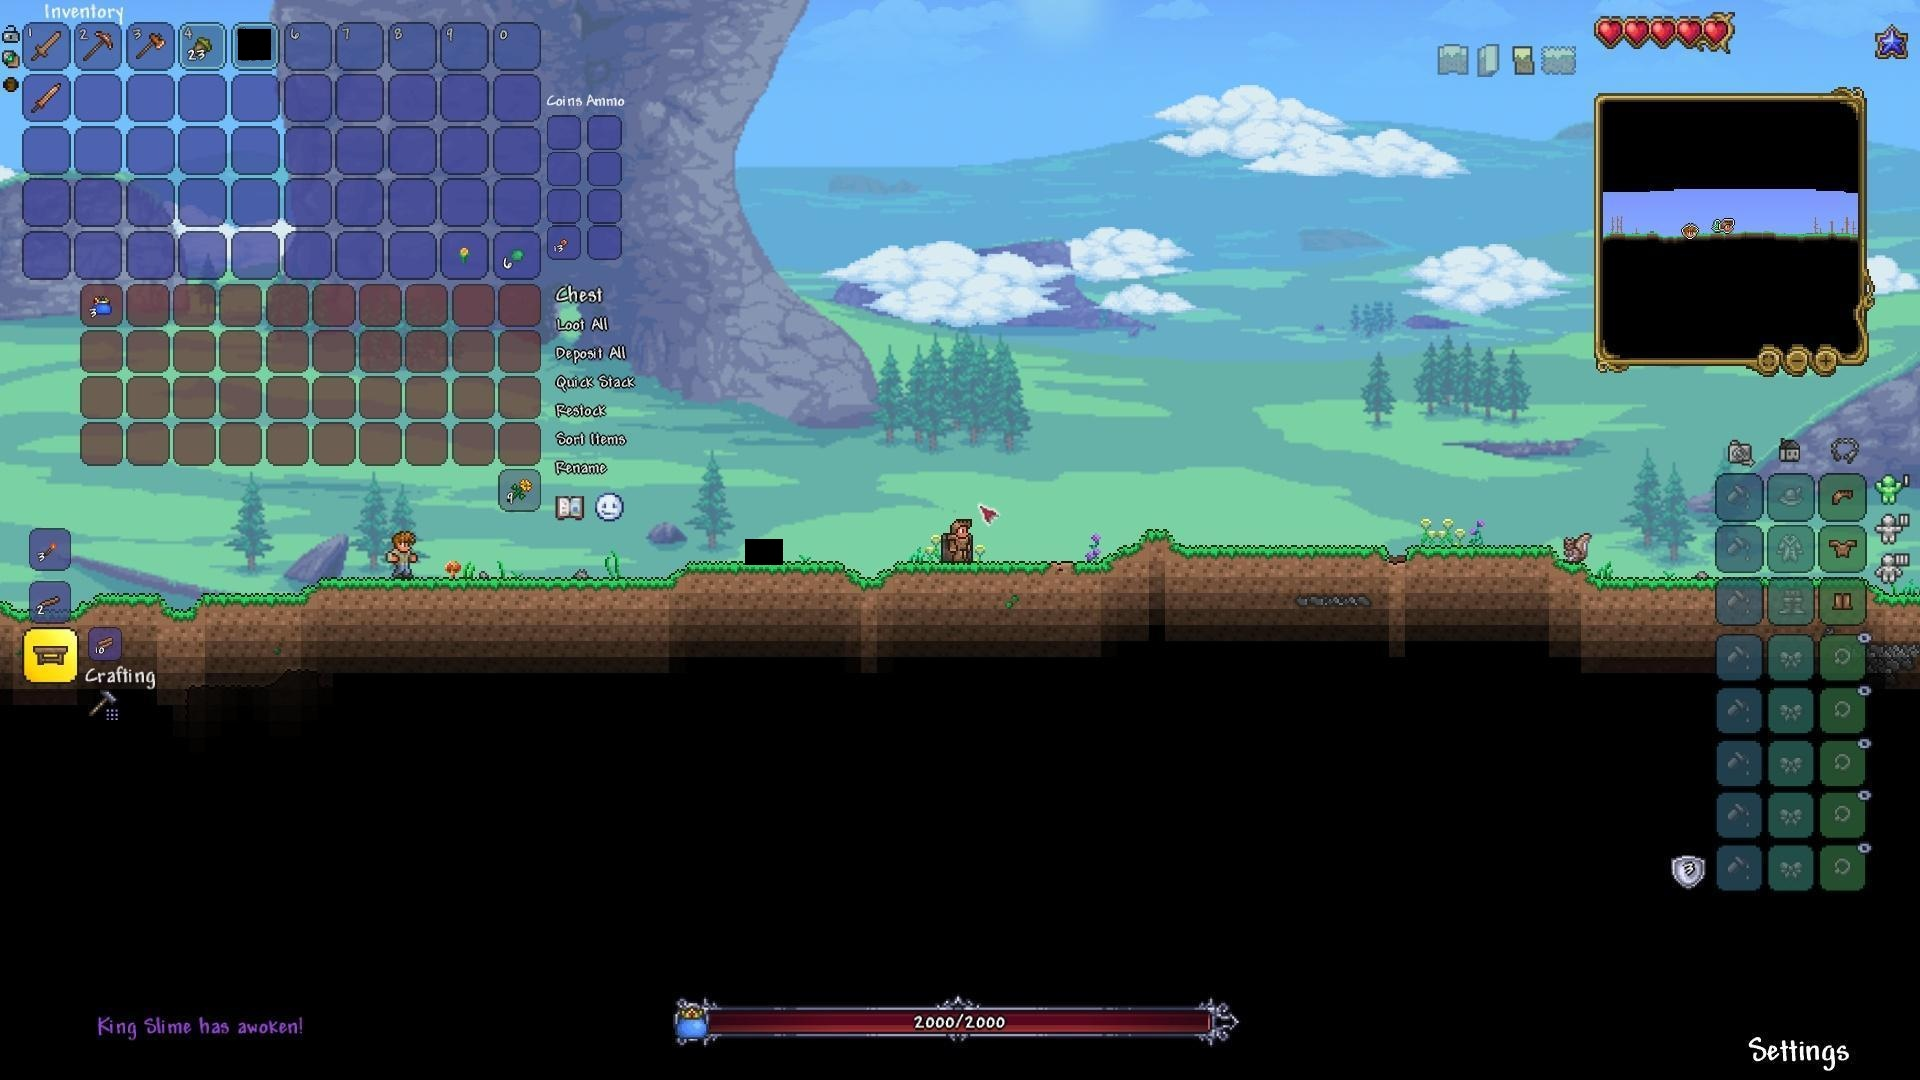breastplate: (1829, 537, 1859, 558)
helmet: (1826, 483, 1858, 512)
legs: (1832, 588, 1857, 617)
wood: (88, 629, 120, 659)
workbench: (33, 644, 65, 669)
